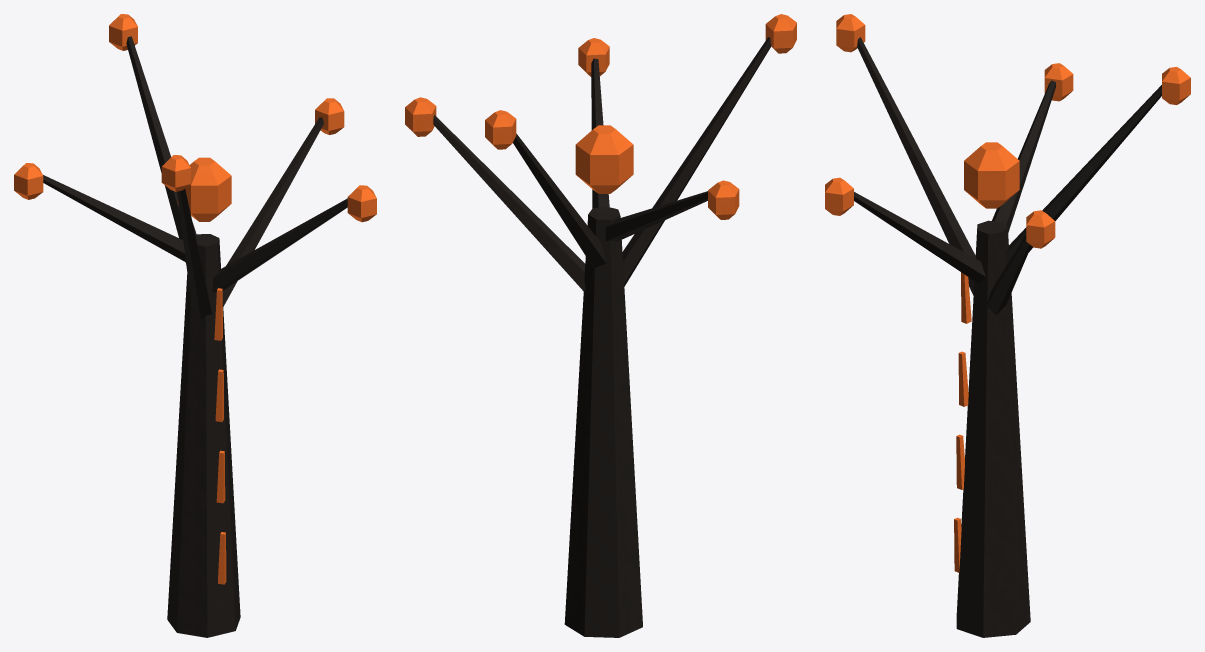
File: tree_lava_01.glb
3 renders of one model, left to right at view 1: azimuth 30°, elevation 25°; view 2: azimuth 150°, elevation 25°; view 3: azimuth 270°, elevation 25°, orthographic. The views are drawn at different scales.
Visible parts, largest first — view 1: tree_lava_01; view 2: tree_lava_01; view 3: tree_lava_01.
Boxes of the visible parts, x1=… form: tree_lava_01: x1=14, y1=14, x2=376, y2=637; tree_lava_01: x1=405, y1=14, x2=796, y2=637; tree_lava_01: x1=825, y1=14, x2=1190, y2=637.
Bounding box in the file's own units: 3.3 × 5.36 × 3.19.
Materials: 2 (2 with a texture image).
